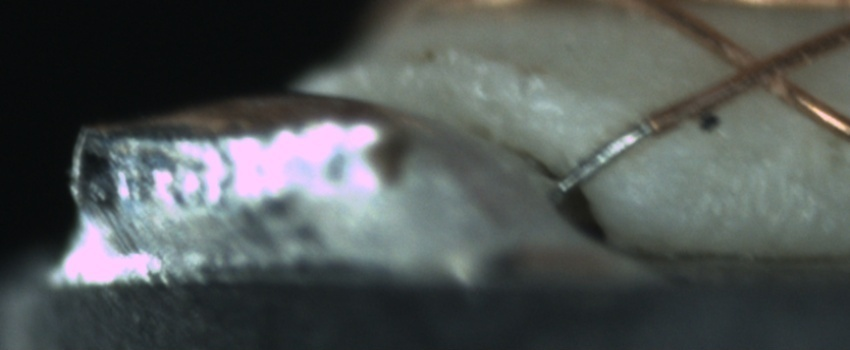CL: (714, 37, 811, 103)
TS: (557, 121, 654, 193)
